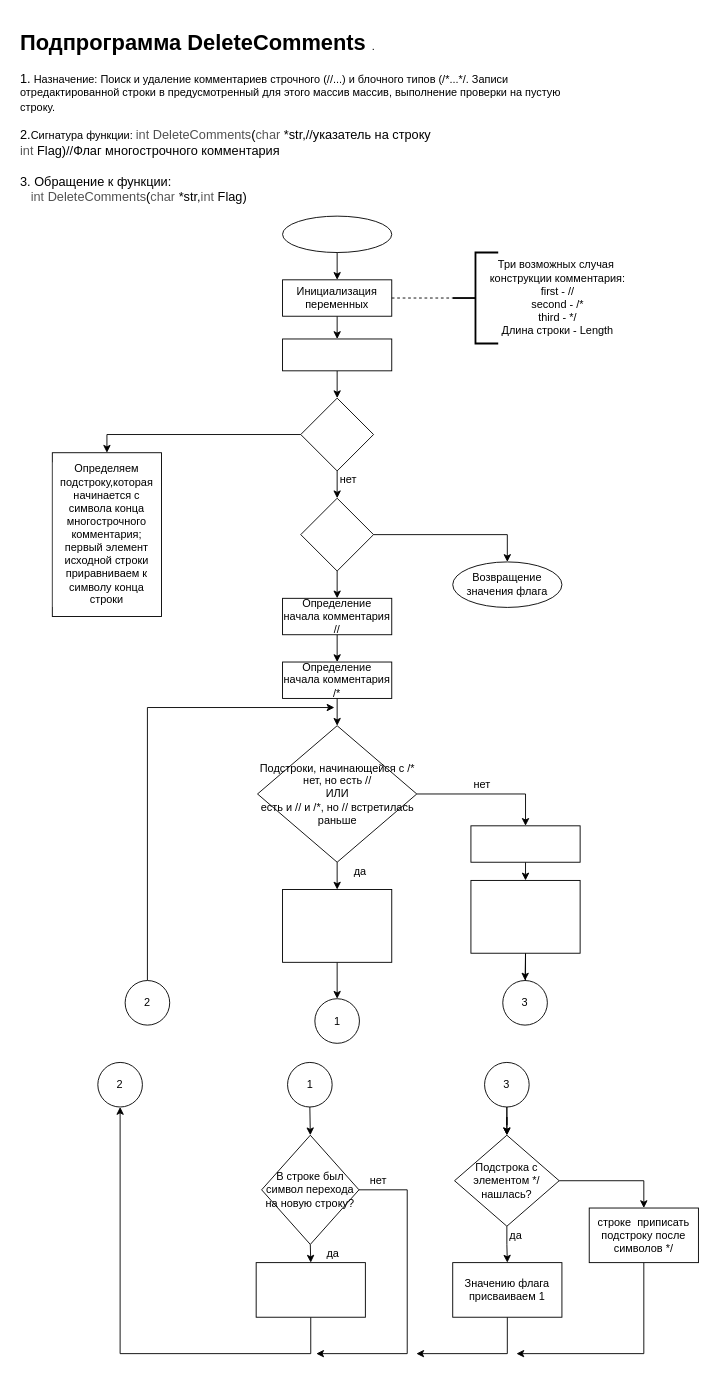
The diagram is 714 pixels wide and 1377 high, and some of its shapes have lost their labels. Each missing label, with the centre of its shape:
В строке есть // или */?: [337,534]
Нахождение длины строки: [337,354]
Начало: [337,234]
Первый элемент строки, начинающийся с // заменяем на консольный ноль: [337,925]
Подстроке с элементом /* присвоить консольный ноль: [525,916]
Поиск подстроки с элементом */: [525,843]
Приписываем символ перехода на новую строку к текущей строке: [310,1289]
Флаг равен 1?: [337,434]
